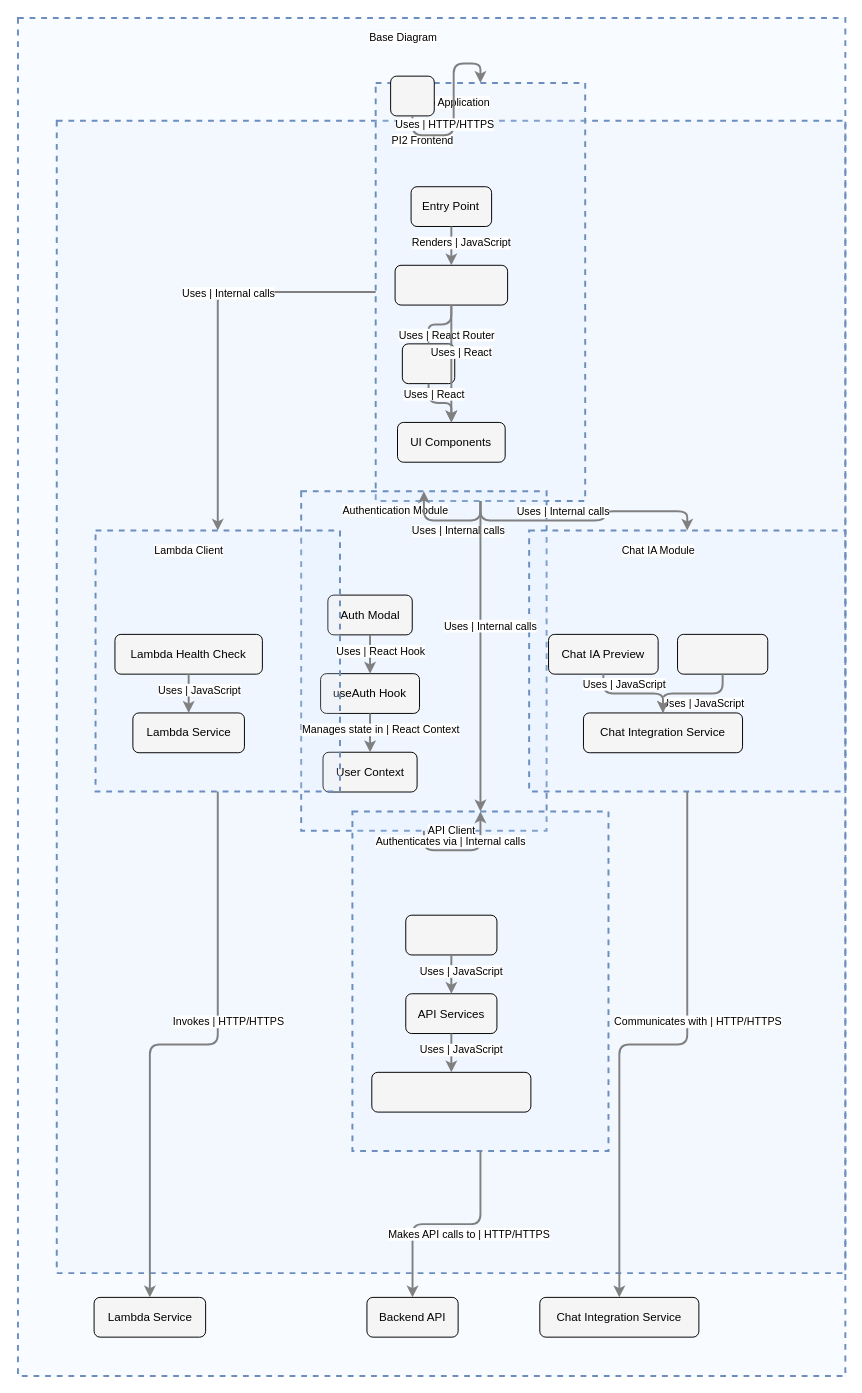
Image size: 862x1393. Some labels were removed from this diagram. The centre of each missing label's shape, as x and y in pixels:
"App Component" belongs at point 451,284.
"Chat IA Auth" belongs at point 722,653.
"Endpoints Configuration" belongs at point 451,1091.
"Pages" belongs at point 428,363.
"useApi Hook" belongs at point 451,934.
"User" belongs at point 412,95.
